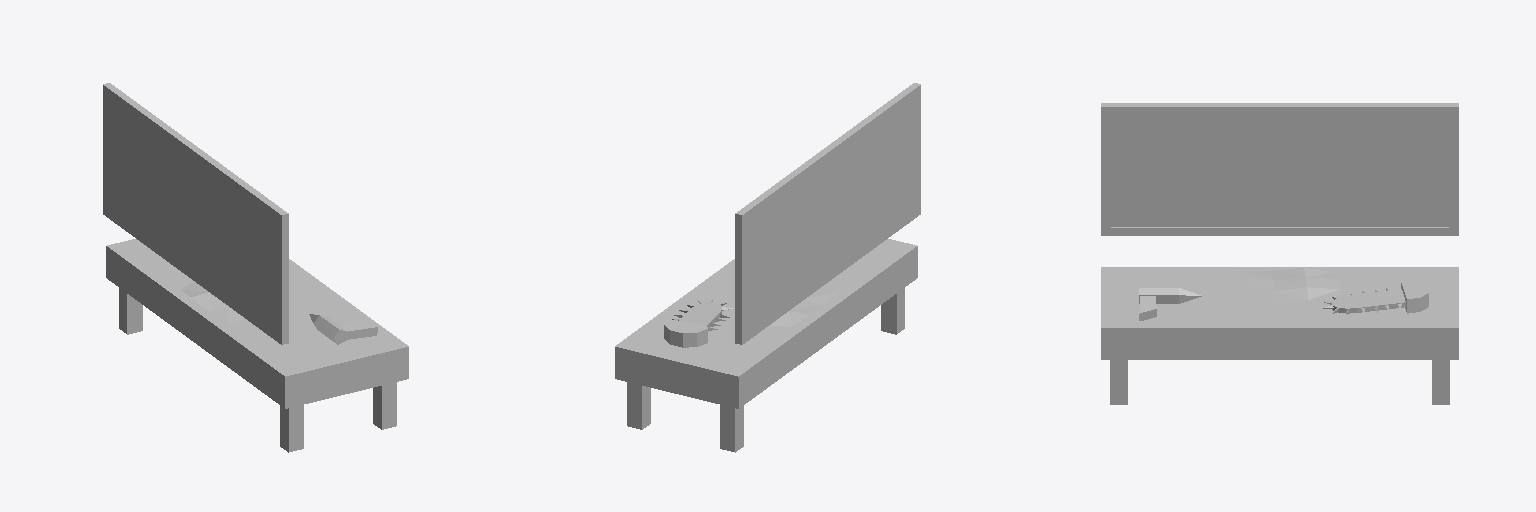
File: mewmewkissycutie.obj
The picture shows the model from 3 angles: view 1: azimuth 30°, elevation 25°; view 2: azimuth 150°, elevation 25°; view 3: azimuth 270°, elevation 25°; orthographic projection.
Parts seen in each view (by area): view 1: pCube1, pCube2, pPlane1, pCube8, pCube3, pCube4, pCube6; view 2: pCube1, pCube2, pPlane1, pCylinder16, pCube6, pCube5, pCube3; view 3: pCube1, pCube2, pPlane1, pCylinder16, pCube8, pCube4, pCube5.
Boxes of the visible parts, x1,y1,x2,y2 form: pCube1: [103, 83, 288, 344]; pCube2: [106, 239, 408, 408]; pPlane1: [181, 271, 354, 342]; pCube8: [309, 314, 377, 344]; pCube3: [280, 405, 303, 452]; pCube4: [373, 382, 396, 429]; pCube6: [119, 288, 142, 334]; pCube1: [735, 83, 920, 344]; pCube2: [615, 239, 917, 408]; pPlane1: [694, 265, 862, 326]; pCylinder16: [664, 300, 732, 347]; pCube6: [720, 405, 743, 452]; pCube5: [627, 382, 650, 429]; pCube3: [881, 288, 904, 334]; pCube1: [1101, 103, 1458, 235]; pCube2: [1101, 267, 1458, 359]; pPlane1: [1175, 268, 1340, 321]; pCylinder16: [1323, 280, 1428, 314]; pCube8: [1139, 288, 1201, 320]; pCube4: [1110, 360, 1127, 404]; pCube5: [1432, 360, 1449, 404].
Size of the model in its own units: 4.11 by 7.5 by 10.